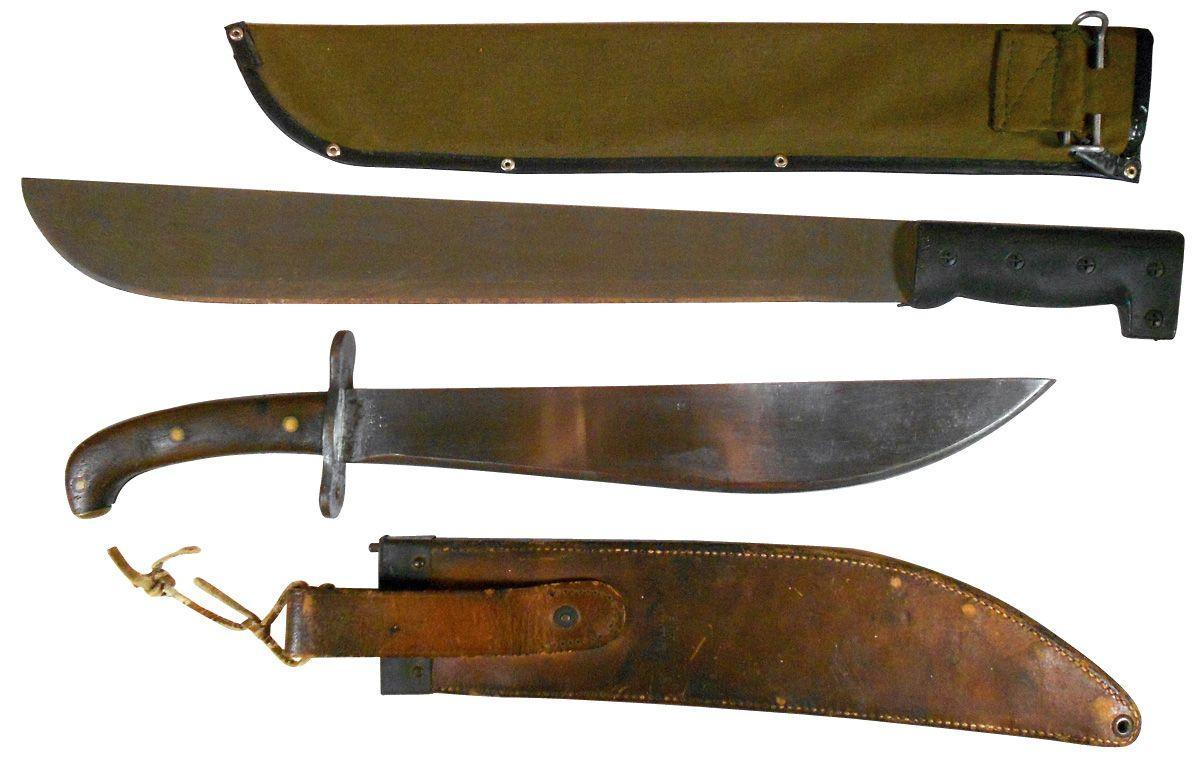facao: (11, 154, 1200, 358), (33, 374, 1044, 504)
